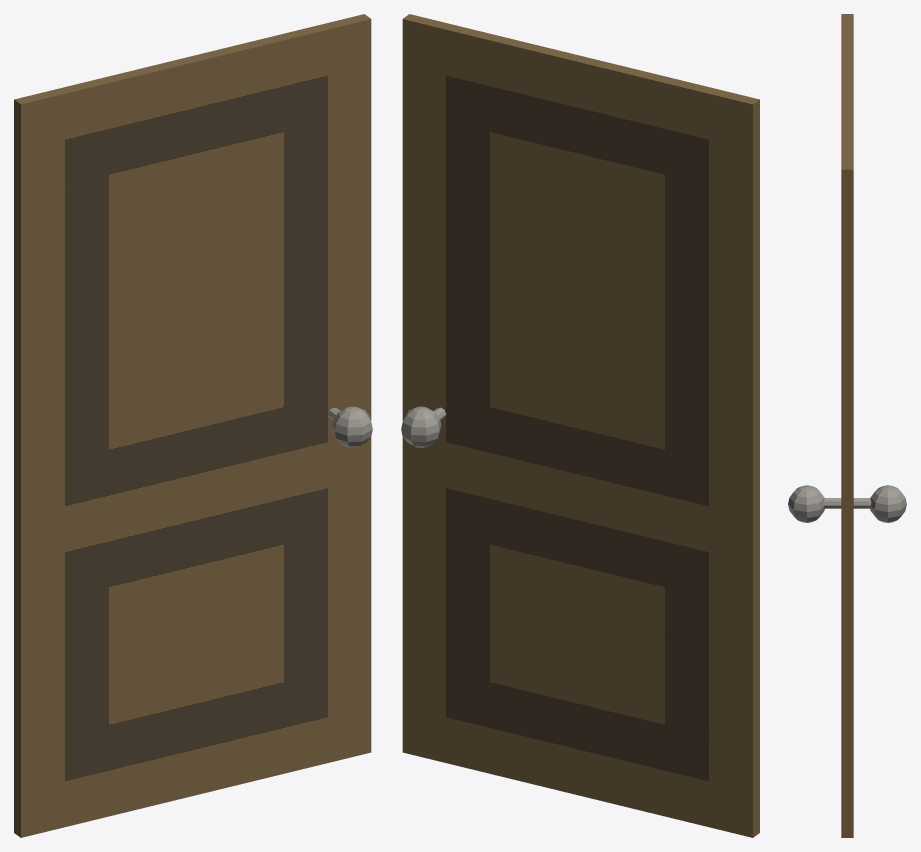
File: Porta.gltf
3 renders of one model, left to right at view 1: azimuth 30°, elevation 25°; view 2: azimuth 150°, elevation 25°; view 3: azimuth 270°, elevation 25°, orthographic. The views are drawn at different scales.
Visible parts, largest first — view 1: Porta, DoorKnob; view 2: Porta, DoorKnob_2; view 3: Porta, DoorKnob, DoorKnob_2.
Part boxes in pixels (box(x1,y1,x2,y2)): Porta: box(14, 14, 371, 837); DoorKnob: box(332, 406, 372, 447); Porta: box(402, 14, 759, 837); DoorKnob_2: box(401, 406, 441, 447); Porta: box(841, 14, 853, 837); DoorKnob: box(788, 485, 824, 522); DoorKnob_2: box(870, 485, 906, 522).
Bounding box in the file's own units: 0.5 × 1 × 0.1614.
Materials: 5 (5 with a texture image).
